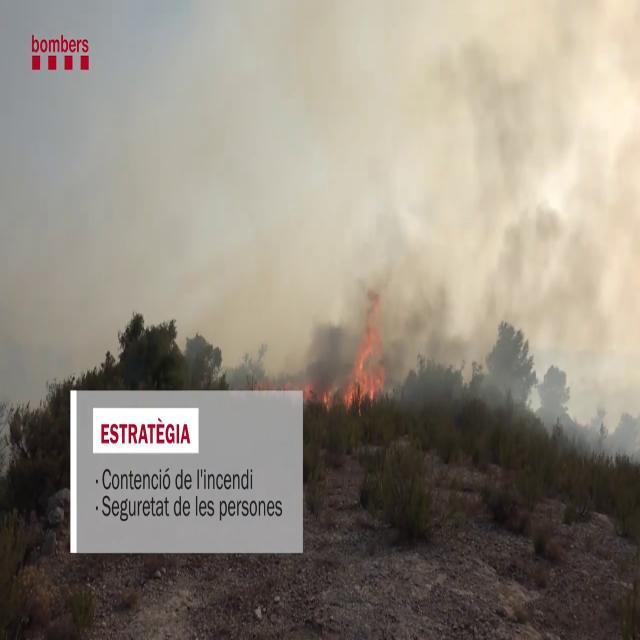Fire: (342, 312, 390, 414)
Smoke: (312, 0, 640, 428)
